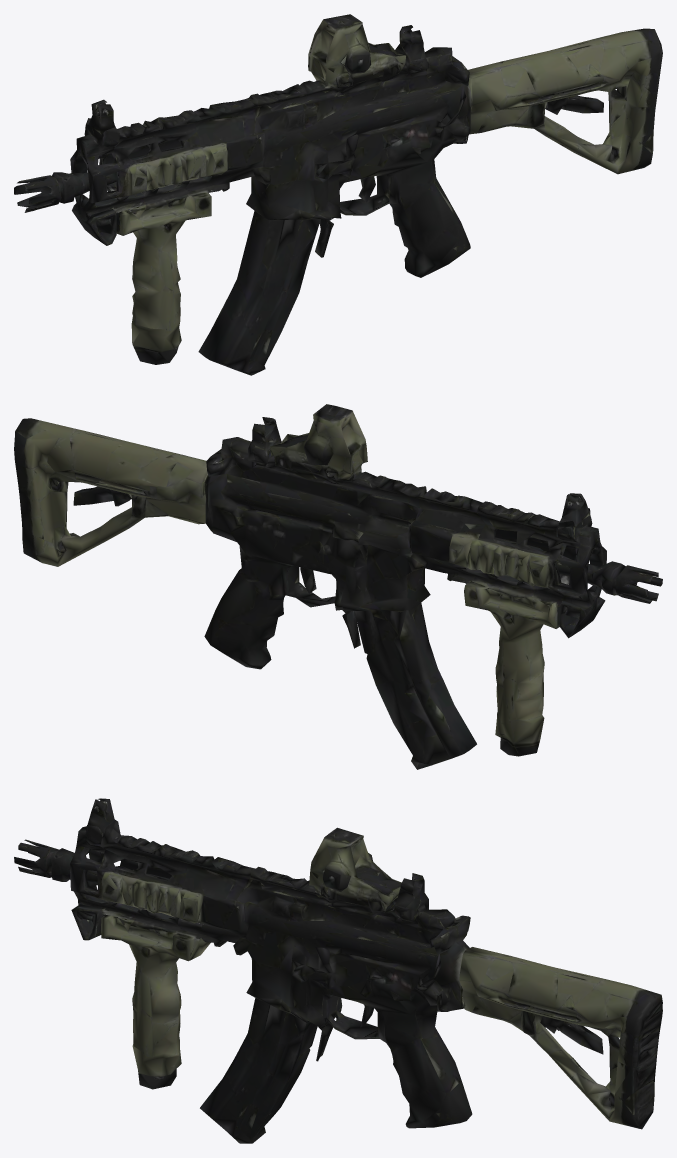
File: gun_pdw_lo.glb
The picture shows the model from 3 angles, top to bottom: view 1: azimuth 30°, elevation 25°; view 2: azimuth 150°, elevation 25°; view 3: azimuth 330°, elevation 25°; orthographic projection.
Bounding box in the file's own units: 1.9 × 0.9521 × 0.1904.
Materials: 1 (1 with a texture image).
